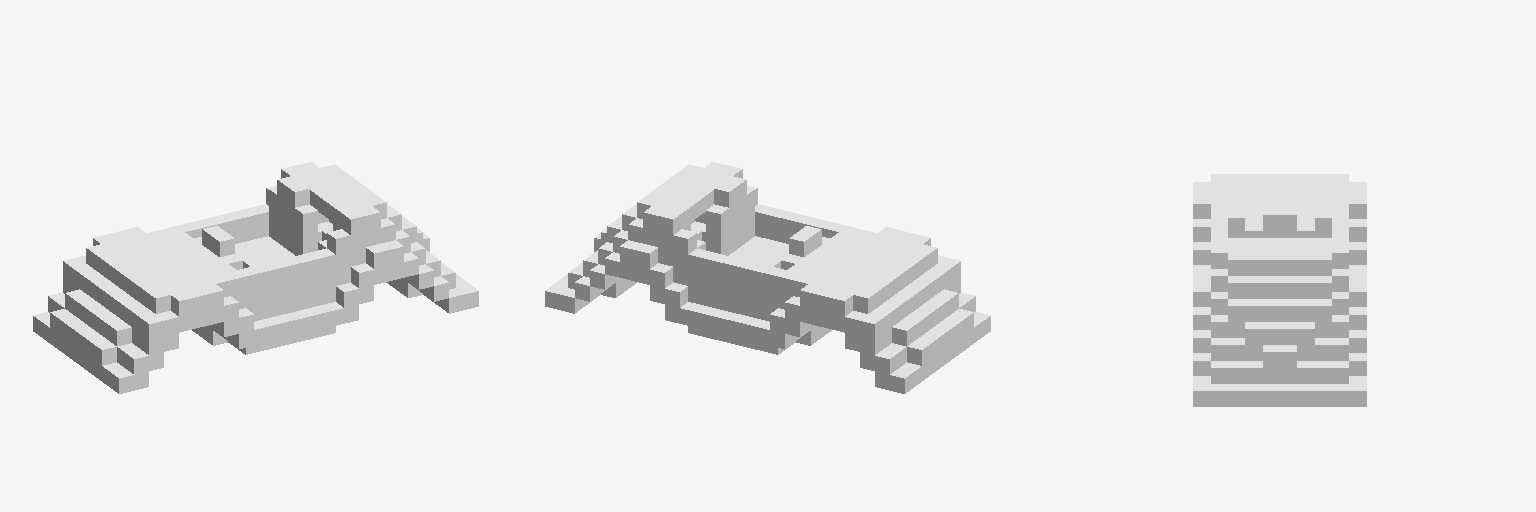
Rendered from Drandulet.obj.
3 views of the same model, side by side, from view 1: azimuth 30°, elevation 25°; view 2: azimuth 150°, elevation 25°; view 3: azimuth 270°, elevation 25° (orthographic).
Parts seen in each view (by area): view 1: object 1; view 2: object 1; view 3: object 1.
Boxes of the visible parts, <box> form: object 1: <box>33,162,478,393</box>; object 1: <box>545,162,990,393</box>; object 1: <box>1193,174,1366,406</box>.
Size of the model in its own units: 2.4 by 0.8 by 1.